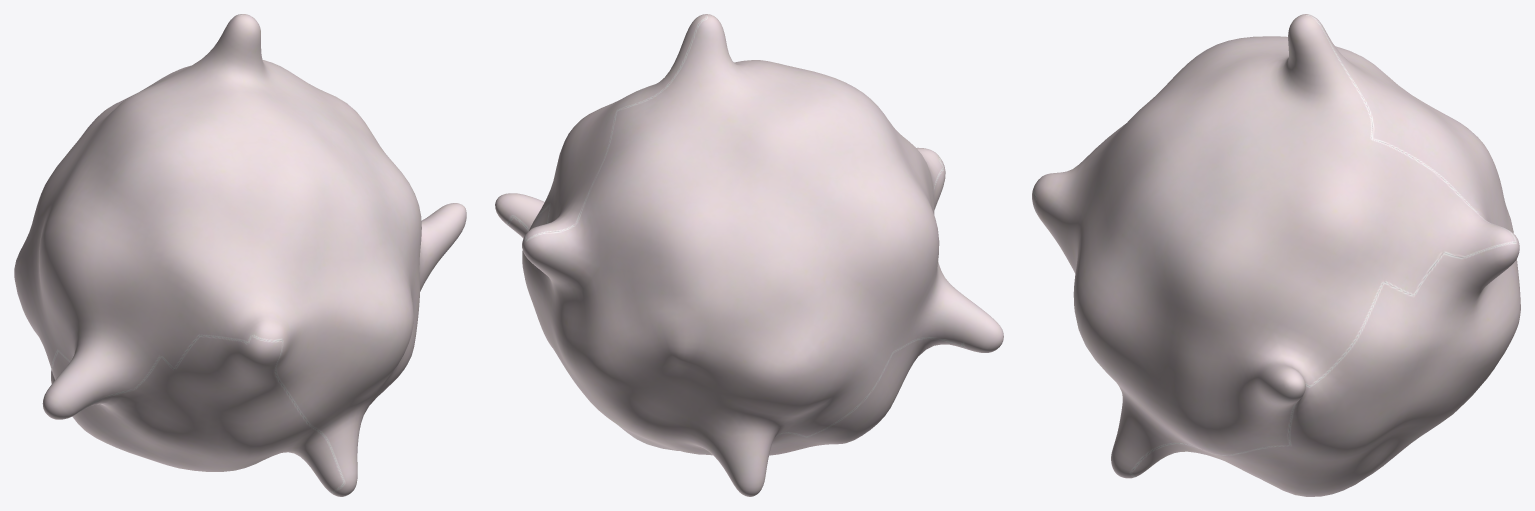
File: Eosinophil_V01.glb
3 renders of one model, left to right at view 1: azimuth 30°, elevation 25°; view 2: azimuth 150°, elevation 25°; view 3: azimuth 270°, elevation 25°, orthographic. The views are drawn at different scales.
Visible parts, largest first — view 1: white_blood_cell_eosinophil_OBJ_low; view 2: white_blood_cell_eosinophil_OBJ_low; view 3: white_blood_cell_eosinophil_OBJ_low.
Part boxes in pixels (x1,y1,x2,y2): white_blood_cell_eosinophil_OBJ_low: (14,14,466,496); white_blood_cell_eosinophil_OBJ_low: (495,14,1003,496); white_blood_cell_eosinophil_OBJ_low: (1032,14,1520,496).
Bounding box in the file's own units: 0.1919 × 0.1696 × 0.1643.
4 materials, 2 textured.
